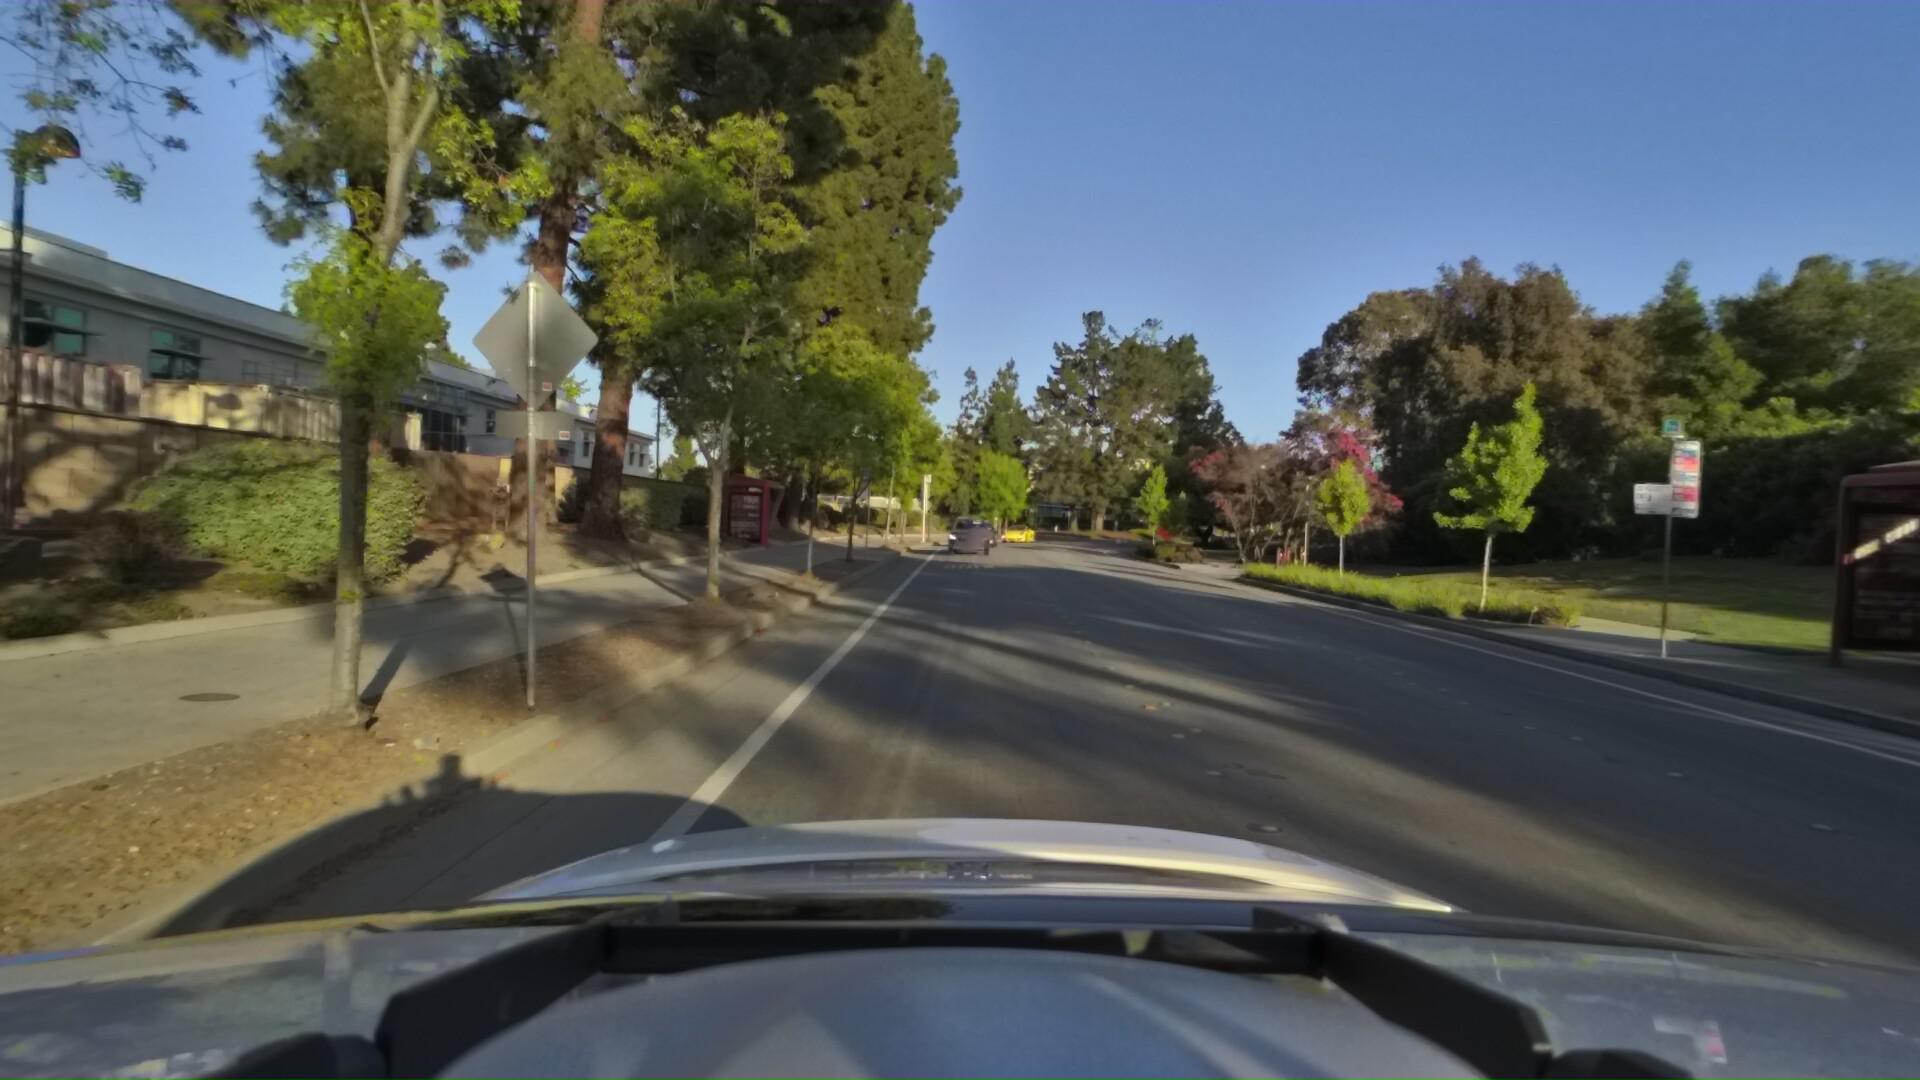car: (942, 508, 992, 554), (960, 512, 1001, 545), (996, 520, 1038, 542)
